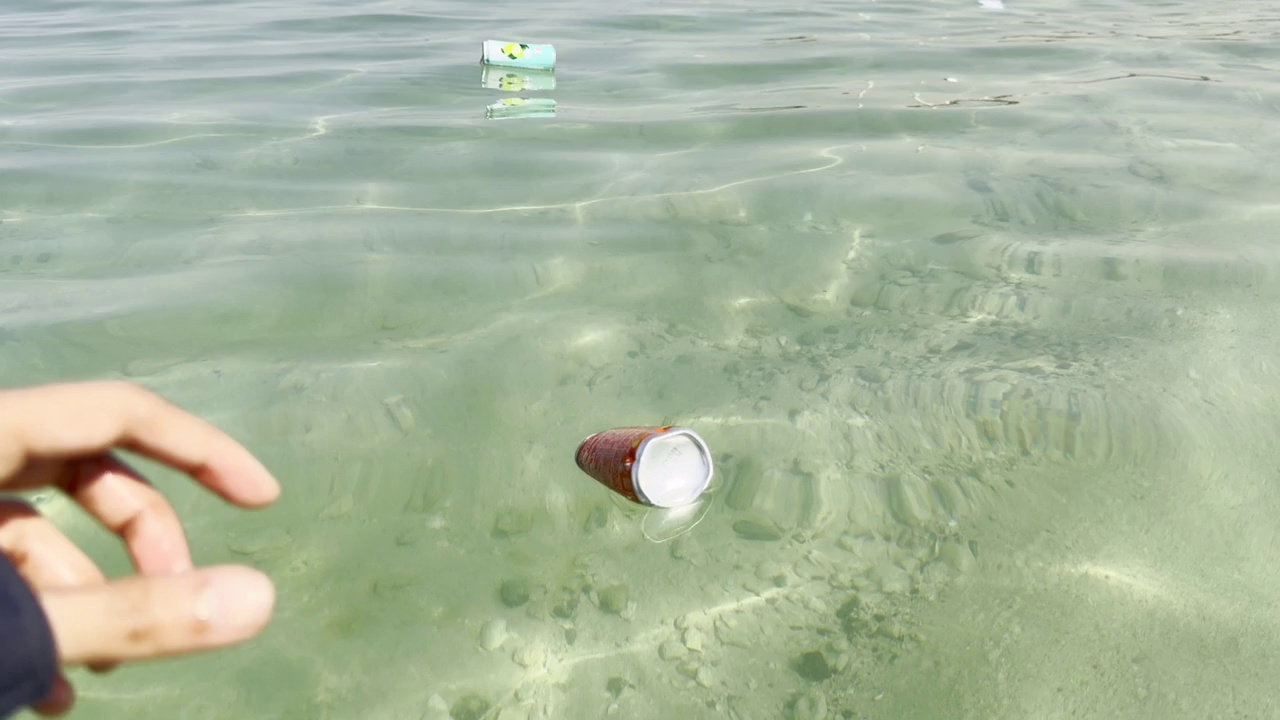debris: (568, 412, 722, 525), (475, 30, 563, 79)
